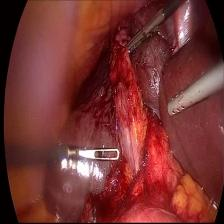Grasper: (117, 16, 160, 64), (80, 145, 124, 172)
Irrigator: (166, 85, 194, 120)
